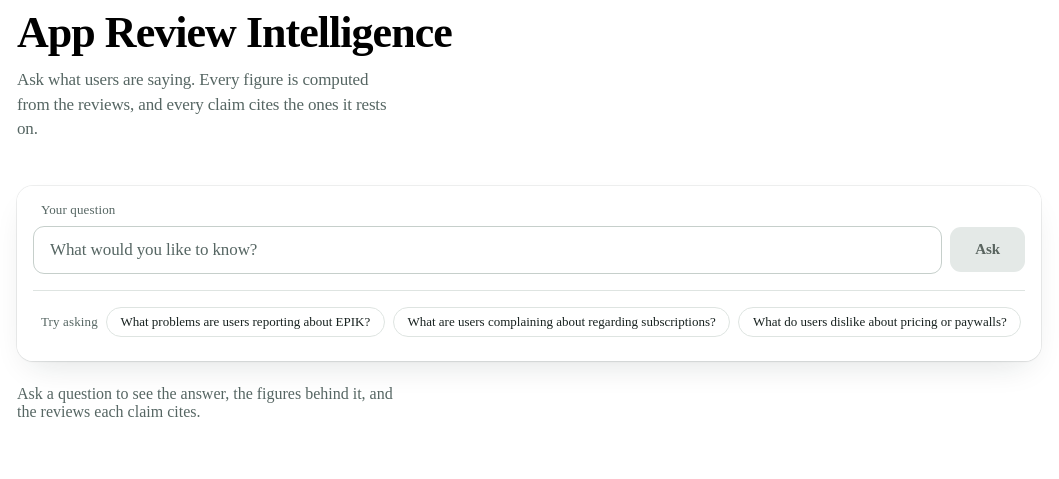
Test case: friendly errors and retry › maps HTTP 400 without exposing response details
Type "  What needs improvement?  " into the field labelled "Your question".
click(488, 250); type("  What needs improvement?  ")  # box [33,226,942,274]
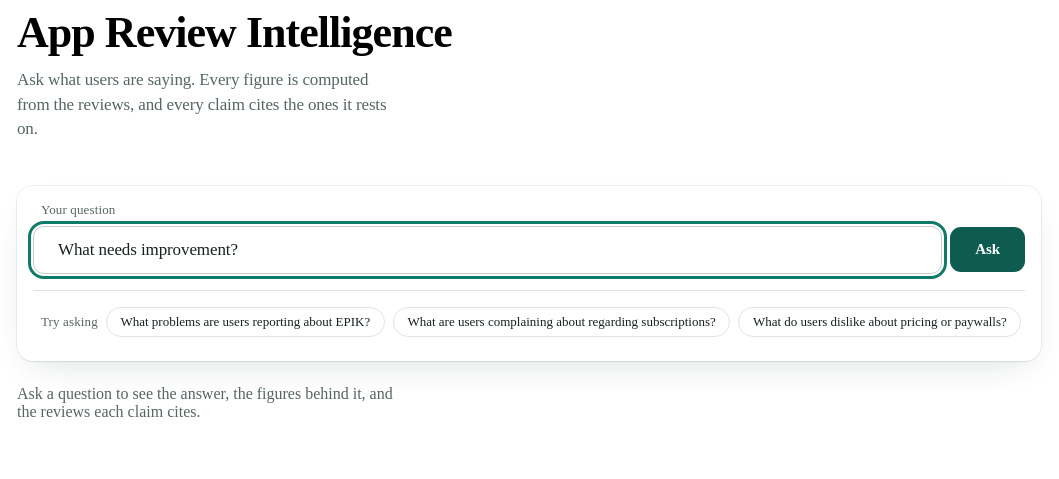
Click the button "Ask".
click(988, 250)  # box [950,227,1025,272]
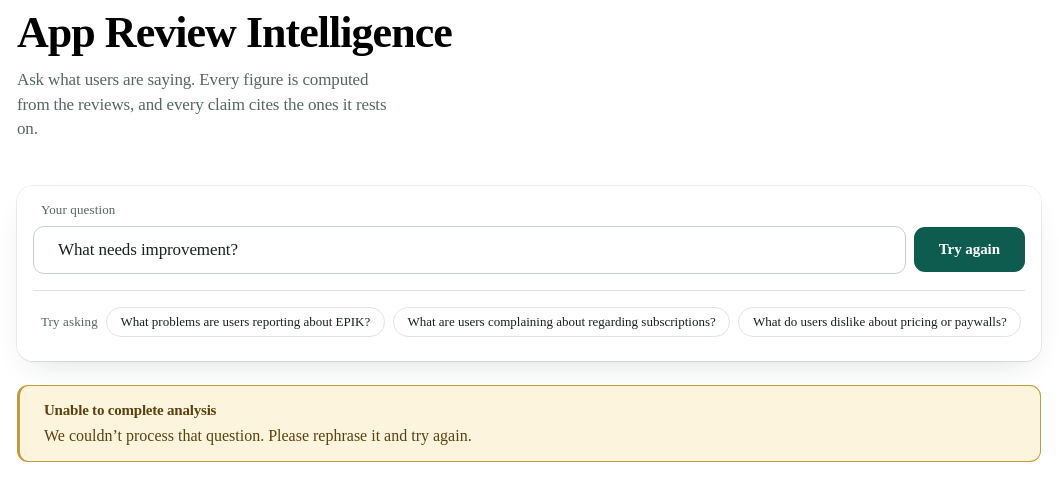
Now the button "Try again" is enabled, box [914,227,1025,272]
Now the message shows "We couldn’t process that question. Please rephrase it and try again.", box [44,427,472,444]
